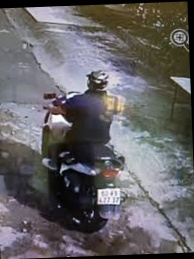Bien-so: (105, 184, 130, 204)
